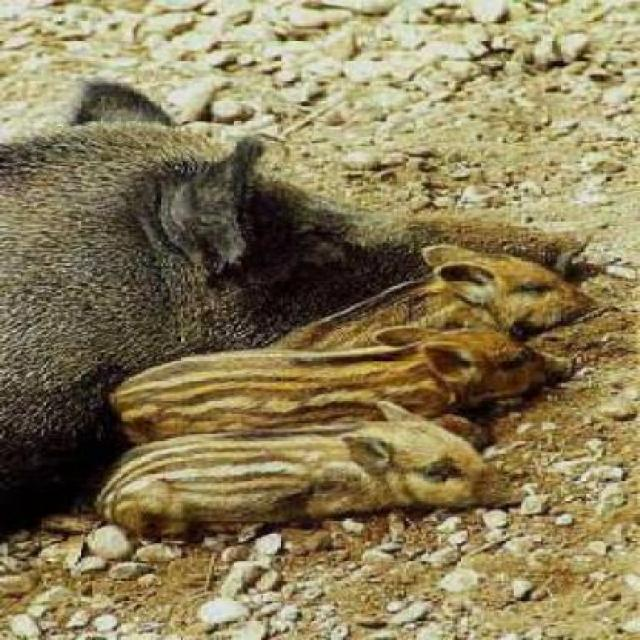pig: (0, 104, 612, 430), (135, 412, 514, 566), (131, 335, 594, 448), (278, 240, 614, 348)
